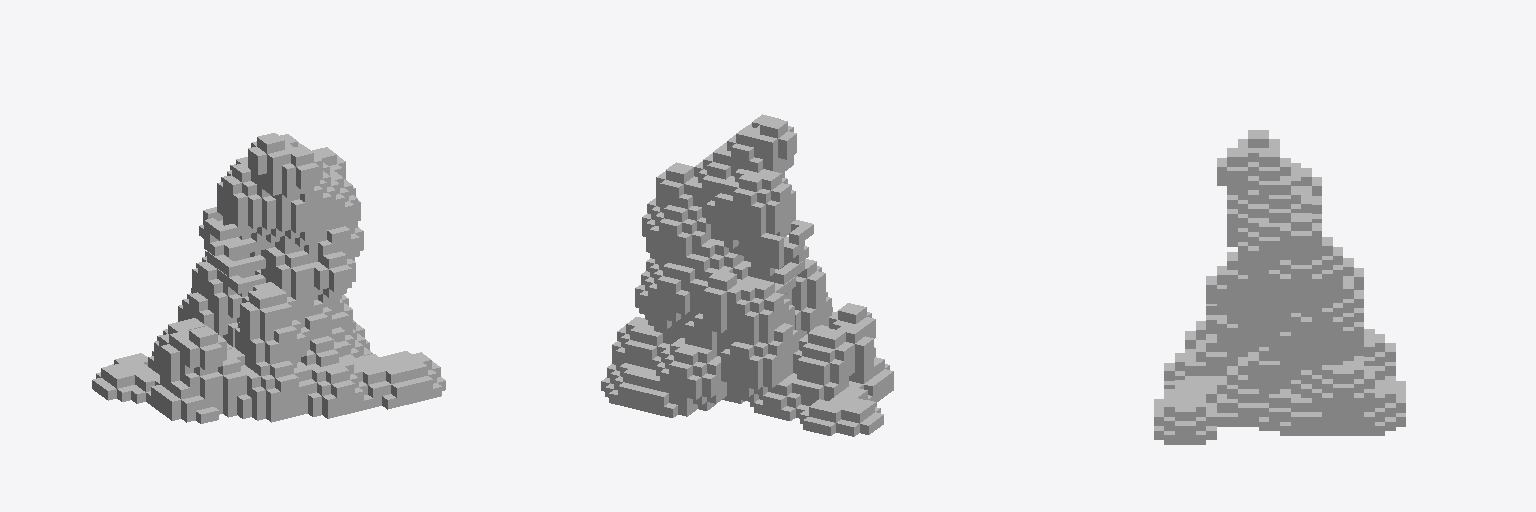
The model's file is SC_Rock3.obj.
The picture shows the model from 3 angles: view 1: azimuth 30°, elevation 25°; view 2: azimuth 150°, elevation 25°; view 3: azimuth 270°, elevation 25°; orthographic projection.
Visible parts, largest first — view 1: SC_Rock3; view 2: SC_Rock3; view 3: SC_Rock3.
Part boxes in pixels (x1,y1,x2,y2): SC_Rock3: (92,133,445,423); SC_Rock3: (601,114,893,436); SC_Rock3: (1154,130,1405,444).
Size of the model in its own units: 29 by 26 by 24.